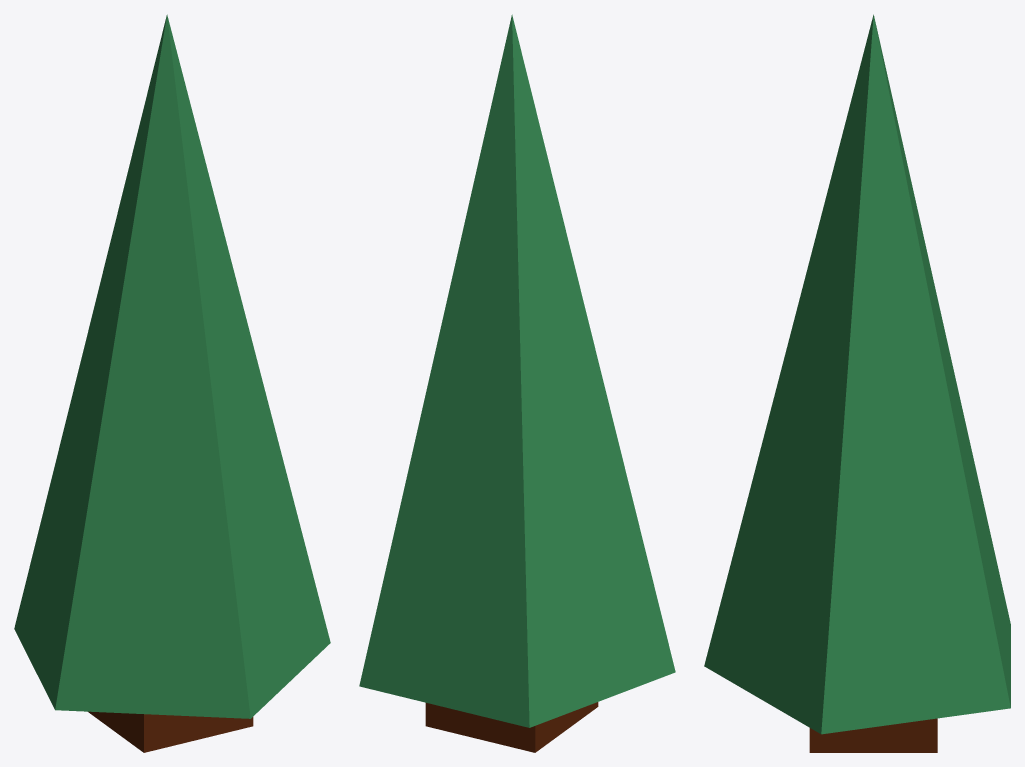
Rendered from Egle.fbx.
3 views of the same model, side by side, from view 1: azimuth 30°, elevation 25°; view 2: azimuth 150°, elevation 25°; view 3: azimuth 270°, elevation 25° (orthographic).
Visible parts, largest first — view 1: Cone; view 2: Cone; view 3: Cone.
Part boxes in pixels (bbox=[...]): Cone: bbox=[14, 14, 330, 752]; Cone: bbox=[359, 14, 675, 752]; Cone: bbox=[704, 14, 1010, 752].
Bounding box in the file's own units: 0.8963 × 2.18 × 0.8524.
